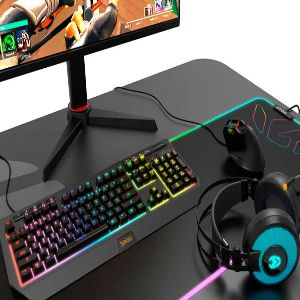headset: (197, 173, 300, 285)
keyboard: (3, 135, 200, 296)
mouse: (218, 117, 271, 172)
